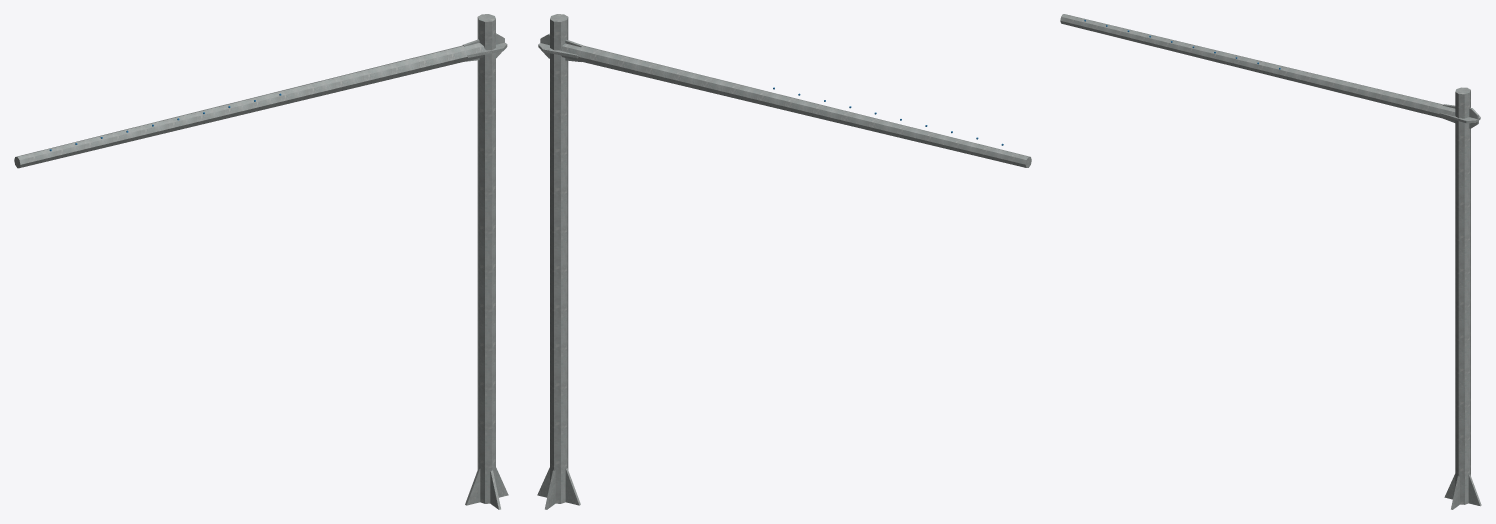
The model's file is Gan0429.gltf.
The picture shows the model from 3 angles, left to right: view 1: azimuth 30°, elevation 25°; view 2: azimuth 150°, elevation 25°; view 3: azimuth 330°, elevation 25°; orthographic projection. The views are drawn at different scales.
Parts seen in each view (by area): view 1: Gan; view 2: Gan; view 3: Gan.
Part boxes in pixels (x1,y1,x2,y2): Gan: (14,14,508,509); Gan: (537,14,1031,509); Gan: (1060,14,1481,509).
Bounding box in the file's own units: 7.71 × 7.24 × 0.722.
2 materials, 1 textured.
